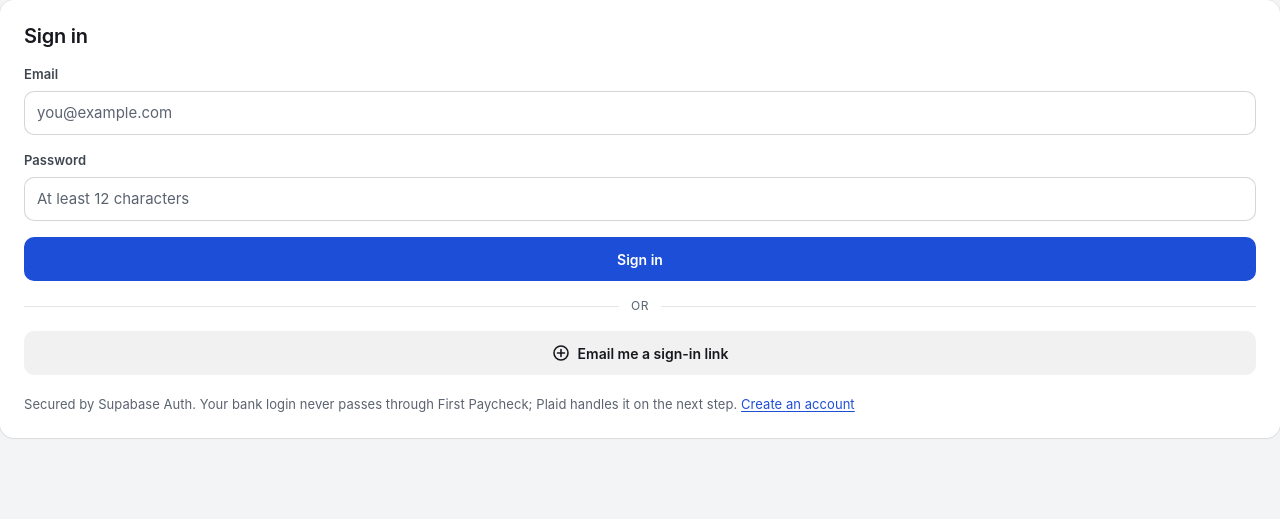
Test: AuthForm, sign in › says so when Supabase is not configured instead of failing silently
The image size is (1280, 519).
Step 1. Type "alex@example.com" into the field labelled "Email" → (640, 113), box [24,90,1256,135]
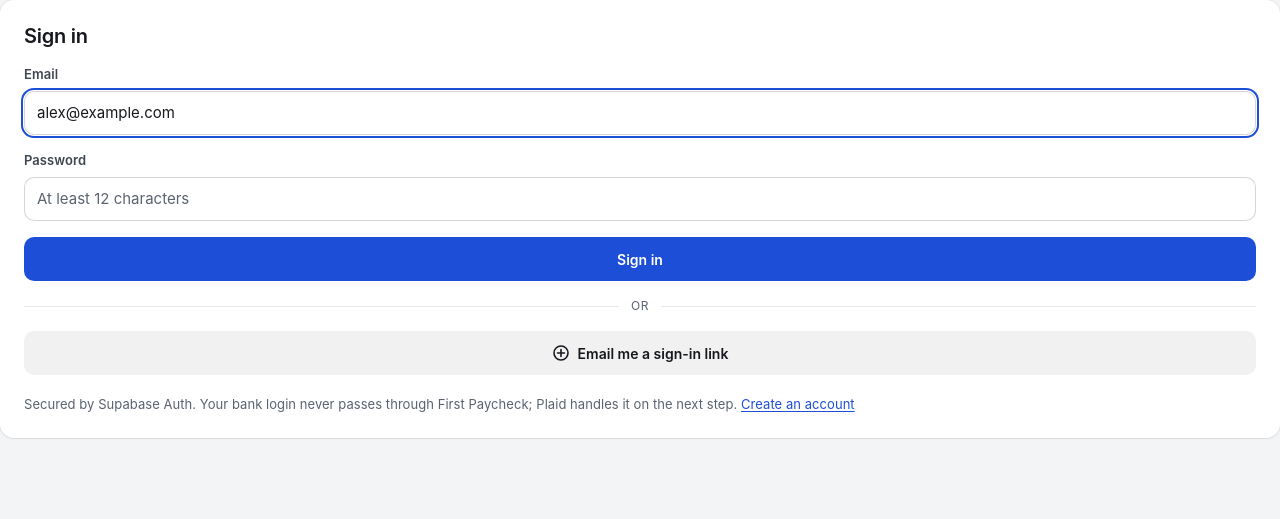
Step 2. Type "correct horse battery" into the password field labelled "Password" → (640, 199), box [24,176,1256,221]
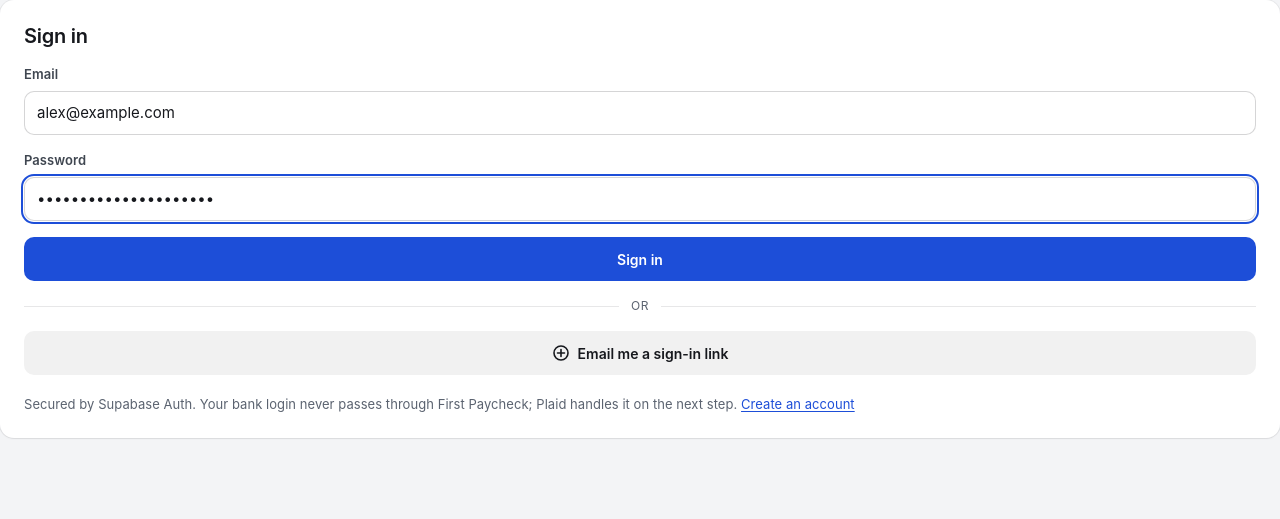
Step 3. Click the button "Sign in" → (640, 259), box [24,237,1256,281]
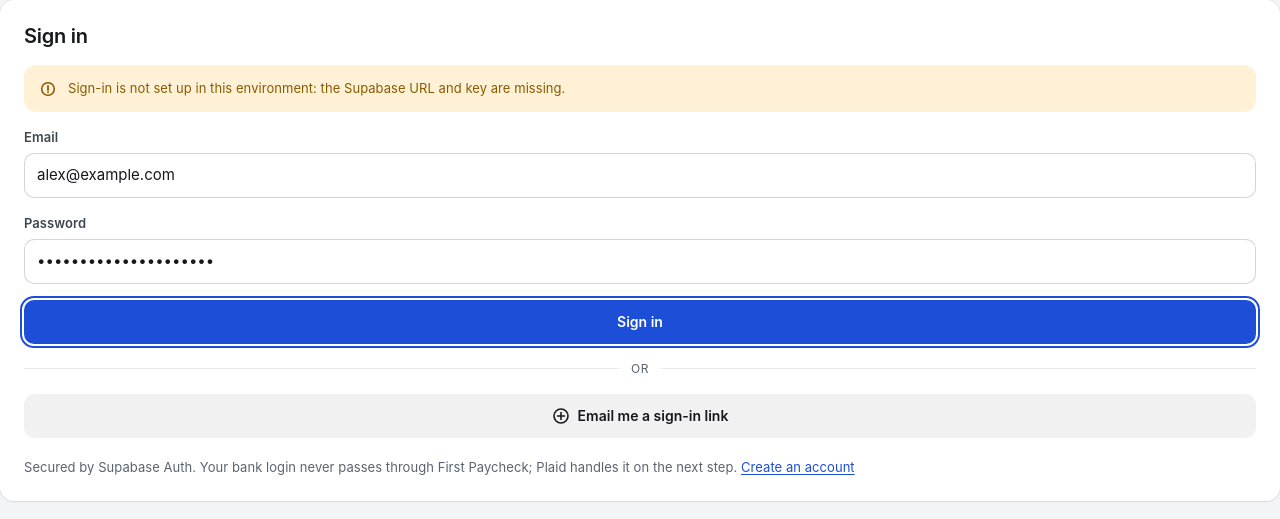
Now the message reads "Sign-in is not set up in this environment: the Supabase URL and key are missing.", box [68,80,565,96]
